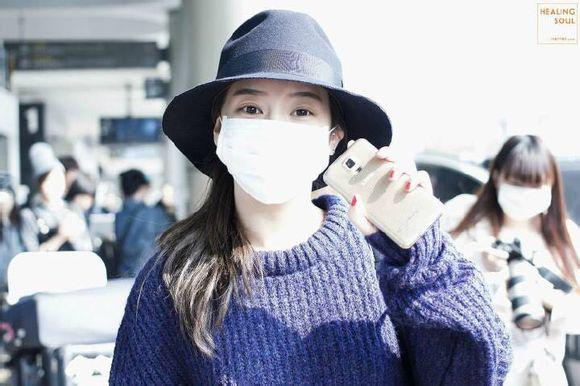OK: (216, 89, 332, 204), (500, 175, 548, 223)
